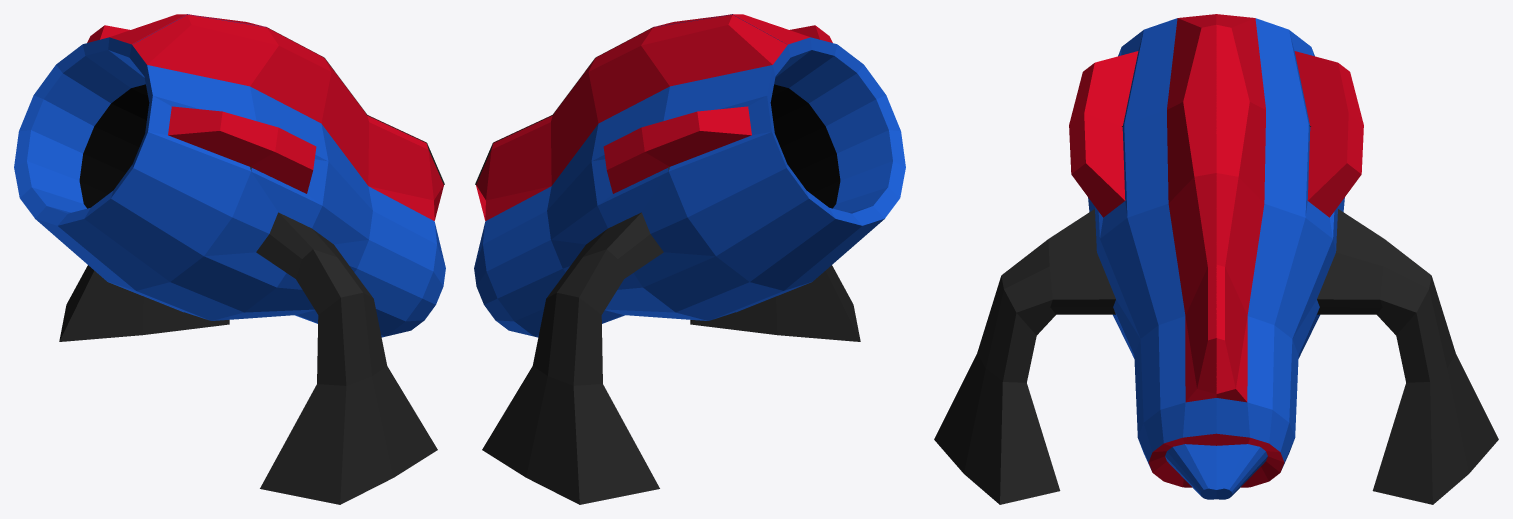
File: Mortier.fbx
3 views of the same model, side by side, from view 1: azimuth 30°, elevation 25°; view 2: azimuth 150°, elevation 25°; view 3: azimuth 270°, elevation 25° (orthographic). The views are drawn at different scales.
Parts seen in each view (by area): view 1: Cylinder; view 2: Cylinder; view 3: Cylinder.
Part boxes in pixels (x1,y1,x2,y2): Cylinder: (14,14,445,504); Cylinder: (474,14,905,504); Cylinder: (934,14,1498,504).
Bounding box in the file's own units: 73.69 × 67.79 × 85.27.
